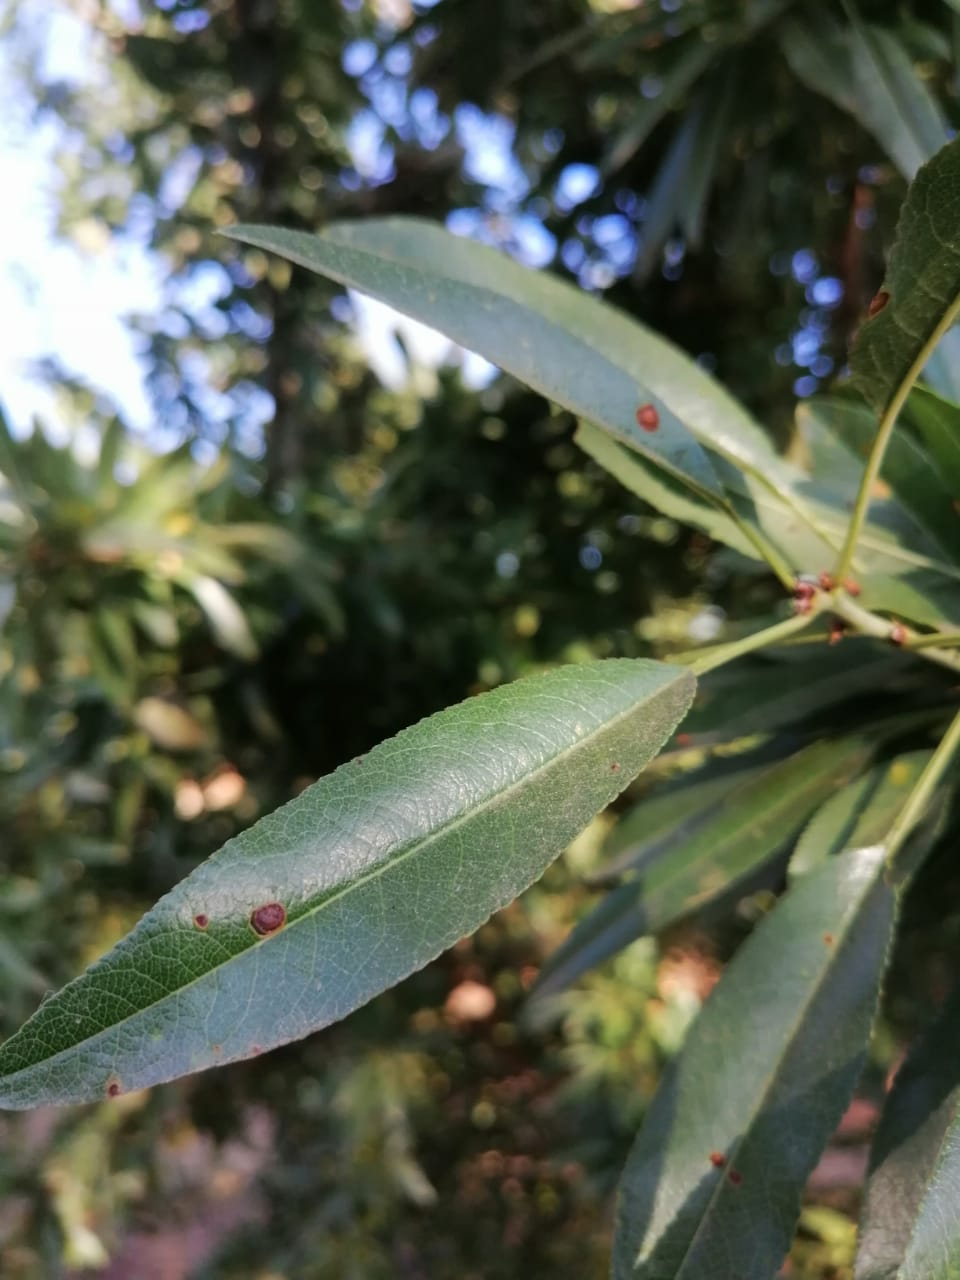coryneum: (1, 657, 702, 1113), (211, 219, 730, 508), (610, 846, 898, 1280)
